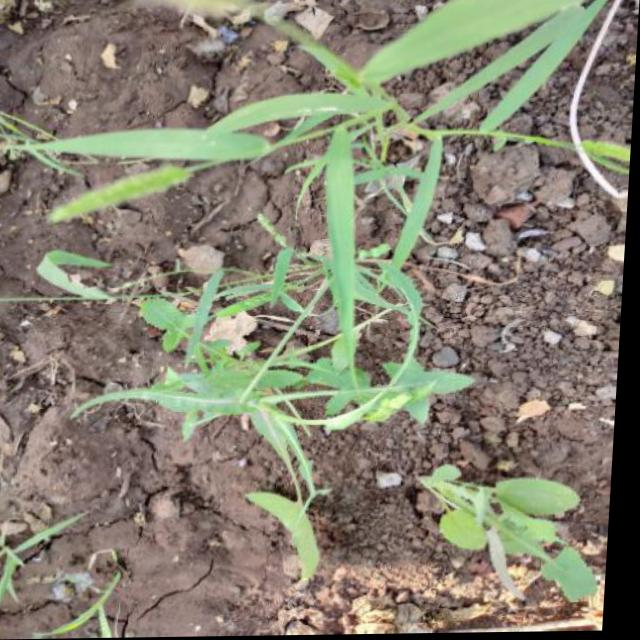weed: (30, 59, 602, 639)
